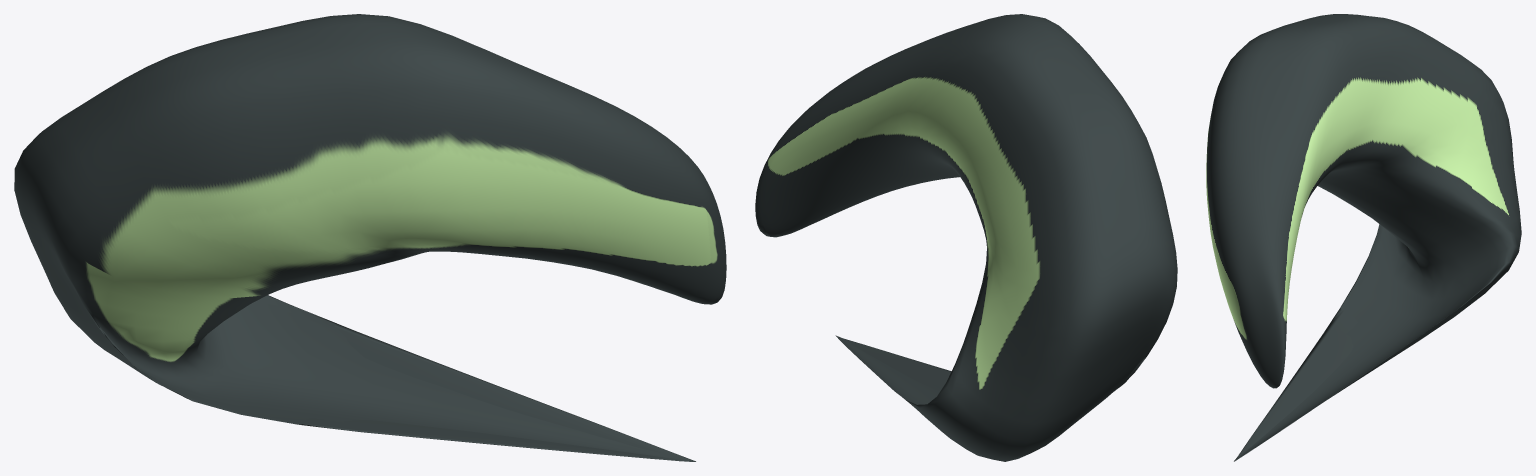
The model's file is ponetail_test4.obj.
3 views of the same model, side by side, from view 1: azimuth 30°, elevation 25°; view 2: azimuth 150°, elevation 25°; view 3: azimuth 270°, elevation 25° (orthographic). The views are drawn at different scales.
Visible parts, largest first — view 1: Cube; view 2: Cube; view 3: Cube.
Boxes of the visible parts, x1=… form: Cube: x1=14, y1=14, x2=726, y2=461; Cube: x1=755, y1=14, x2=1177, y2=461; Cube: x1=1206, y1=14, x2=1521, y2=461.
Bounding box in the file's own units: 31.89 × 24.25 × 20.85.
